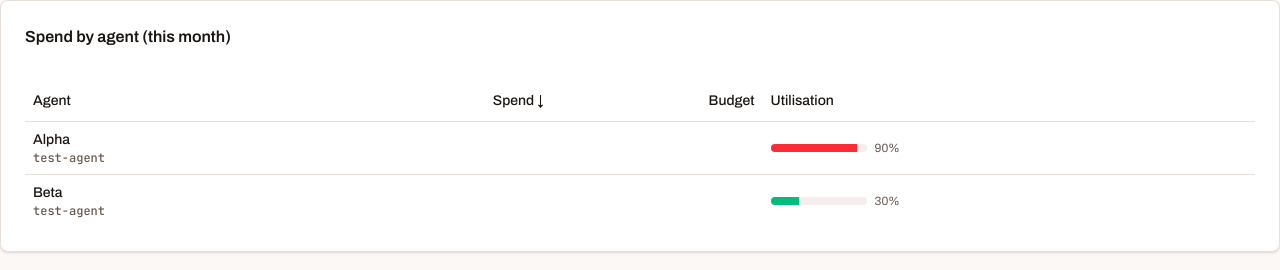
Scenario: PerAgentCostTable › sorting › clicking the Utilisation header does not throw and re-renders the table
# click Utilisation sort header
Click the button "Utilisation" at (802, 101), box [771,91,834,111]
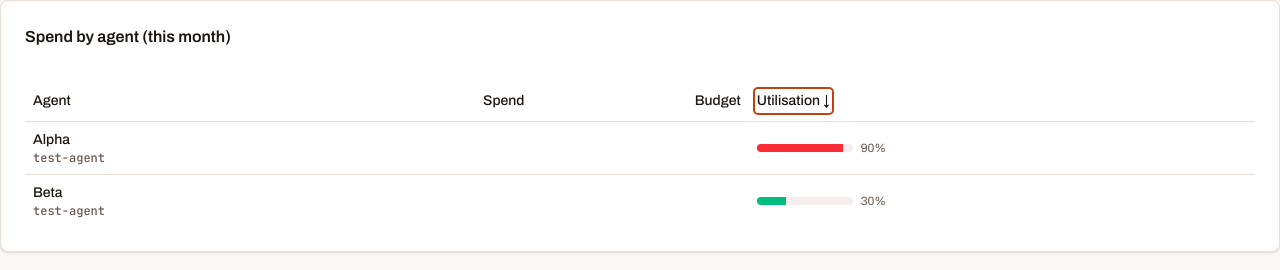
Check: the link "Alpha" is shown, box [33,132,70,146]
Check: the button "Utilisation ↓" is shown, box [757,91,830,111]
